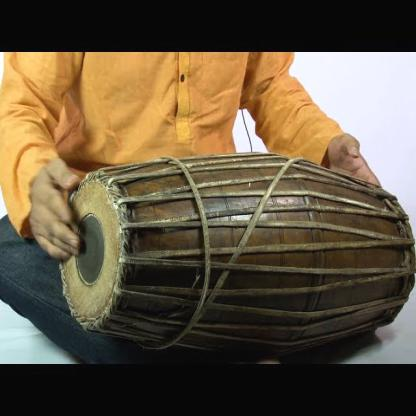Mridangam: (56, 147, 416, 356)
